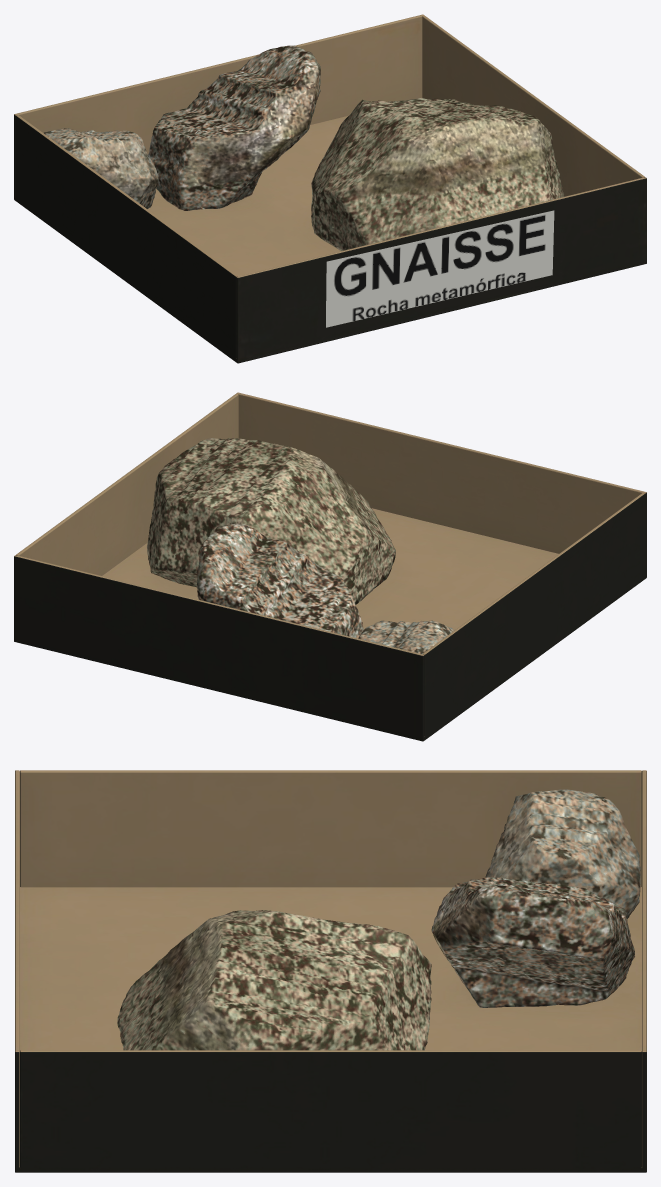
The model's file is rocha_02_13_gnaisse.glb.
3 views of the same model, one above another, from view 1: azimuth 30°, elevation 25°; view 2: azimuth 150°, elevation 25°; view 3: azimuth 270°, elevation 25° (orthographic). The views are drawn at different scales.
Parts seen in each view (by area): view 1: Fragmento_03_mo13, Bandeja_Frente_mo13, Bandeja_Esquerda_mo13, Fragmento_02_mo13, Bandeja_Fundo_mo13, Etiqueta_mo13, Bandeja_Base_mo13, Bandeja_Direita_mo13, Fragmento_01_mo13; view 2: Bandeja_Fundo_mo13, Bandeja_Frente_mo13, Fragmento_03_mo13, Bandeja_Esquerda_mo13, Bandeja_Base_mo13, Fragmento_02_mo13, Bandeja_Direita_mo13, Fragmento_01_mo13; view 3: Bandeja_Direita_mo13, Bandeja_Esquerda_mo13, Bandeja_Base_mo13, Fragmento_03_mo13, Fragmento_02_mo13, Fragmento_01_mo13, Bandeja_Frente_mo13, Bandeja_Fundo_mo13.
Boxes of the visible parts, x1,y1,x2,y2 form: Fragmento_03_mo13: (311,98,564,250); Bandeja_Frente_mo13: (236,177,646,362); Bandeja_Esquerda_mo13: (15,115,237,361); Fragmento_02_mo13: (148,45,320,210); Bandeja_Fundo_mo13: (14,14,424,200); Etiqueta_mo13: (326,210,554,327); Bandeja_Base_mo13: (14,115,646,363); Bandeja_Direita_mo13: (422,15,644,196); Fragmento_01_mo13: (44,128,158,208); Bandeja_Fundo_mo13: (14,555,424,740); Bandeja_Frente_mo13: (236,392,646,574); Fragmento_03_mo13: (147,438,395,604); Bandeja_Esquerda_mo13: (423,493,645,738); Bandeja_Base_mo13: (14,508,646,741); Fragmento_02_mo13: (197,523,363,638); Bandeja_Direita_mo13: (16,393,238,575); Fragmento_01_mo13: (358,620,454,654); Bandeja_Direita_mo13: (20,1050,641,1172); Bandeja_Esquerda_mo13: (20,770,641,887); Bandeja_Base_mo13: (15,887,646,1172); Fragmento_03_mo13: (117,910,431,1050); Fragmento_02_mo13: (431,877,634,1007); Fragmento_01_mo13: (485,789,640,919); Bandeja_Frente_mo13: (15,770,19,1172); Bandeja_Fundo_mo13: (642,770,646,1171).
Bounding box in the file's own units: 0.2 × 0.0561 × 0.1897.
Materials: 3 (3 with a texture image).
